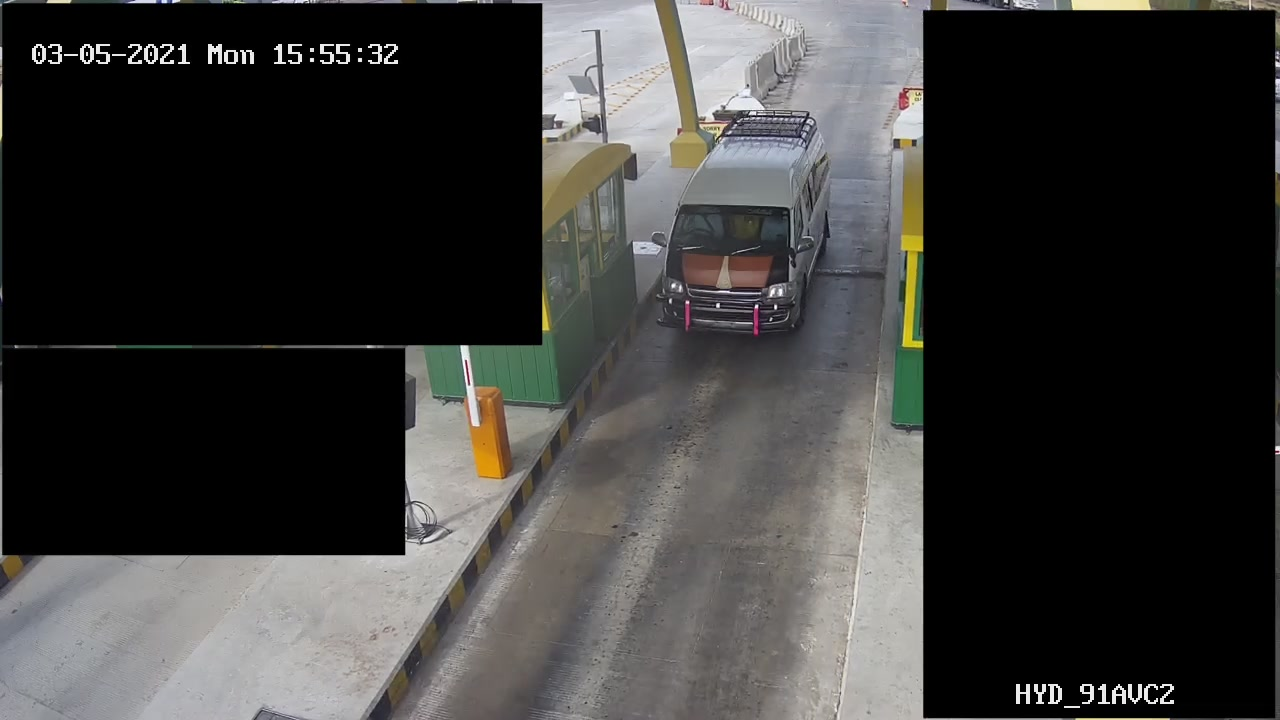F2: (638, 107, 850, 347)
